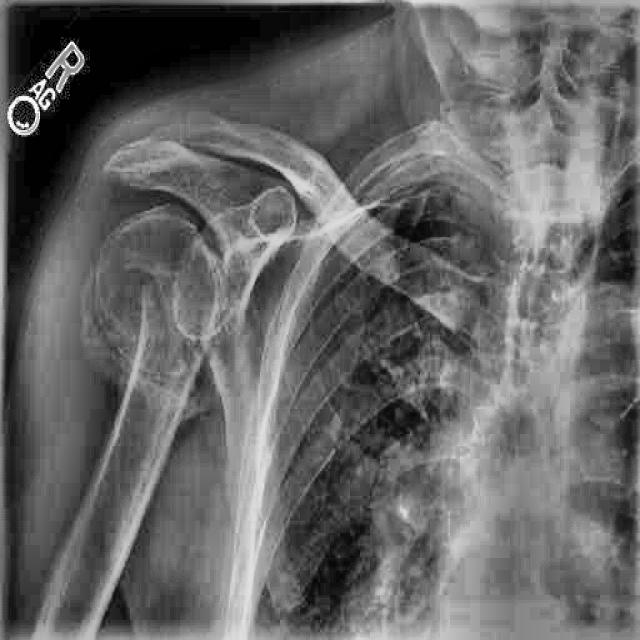shoulder fracture: (113, 230, 206, 404)
